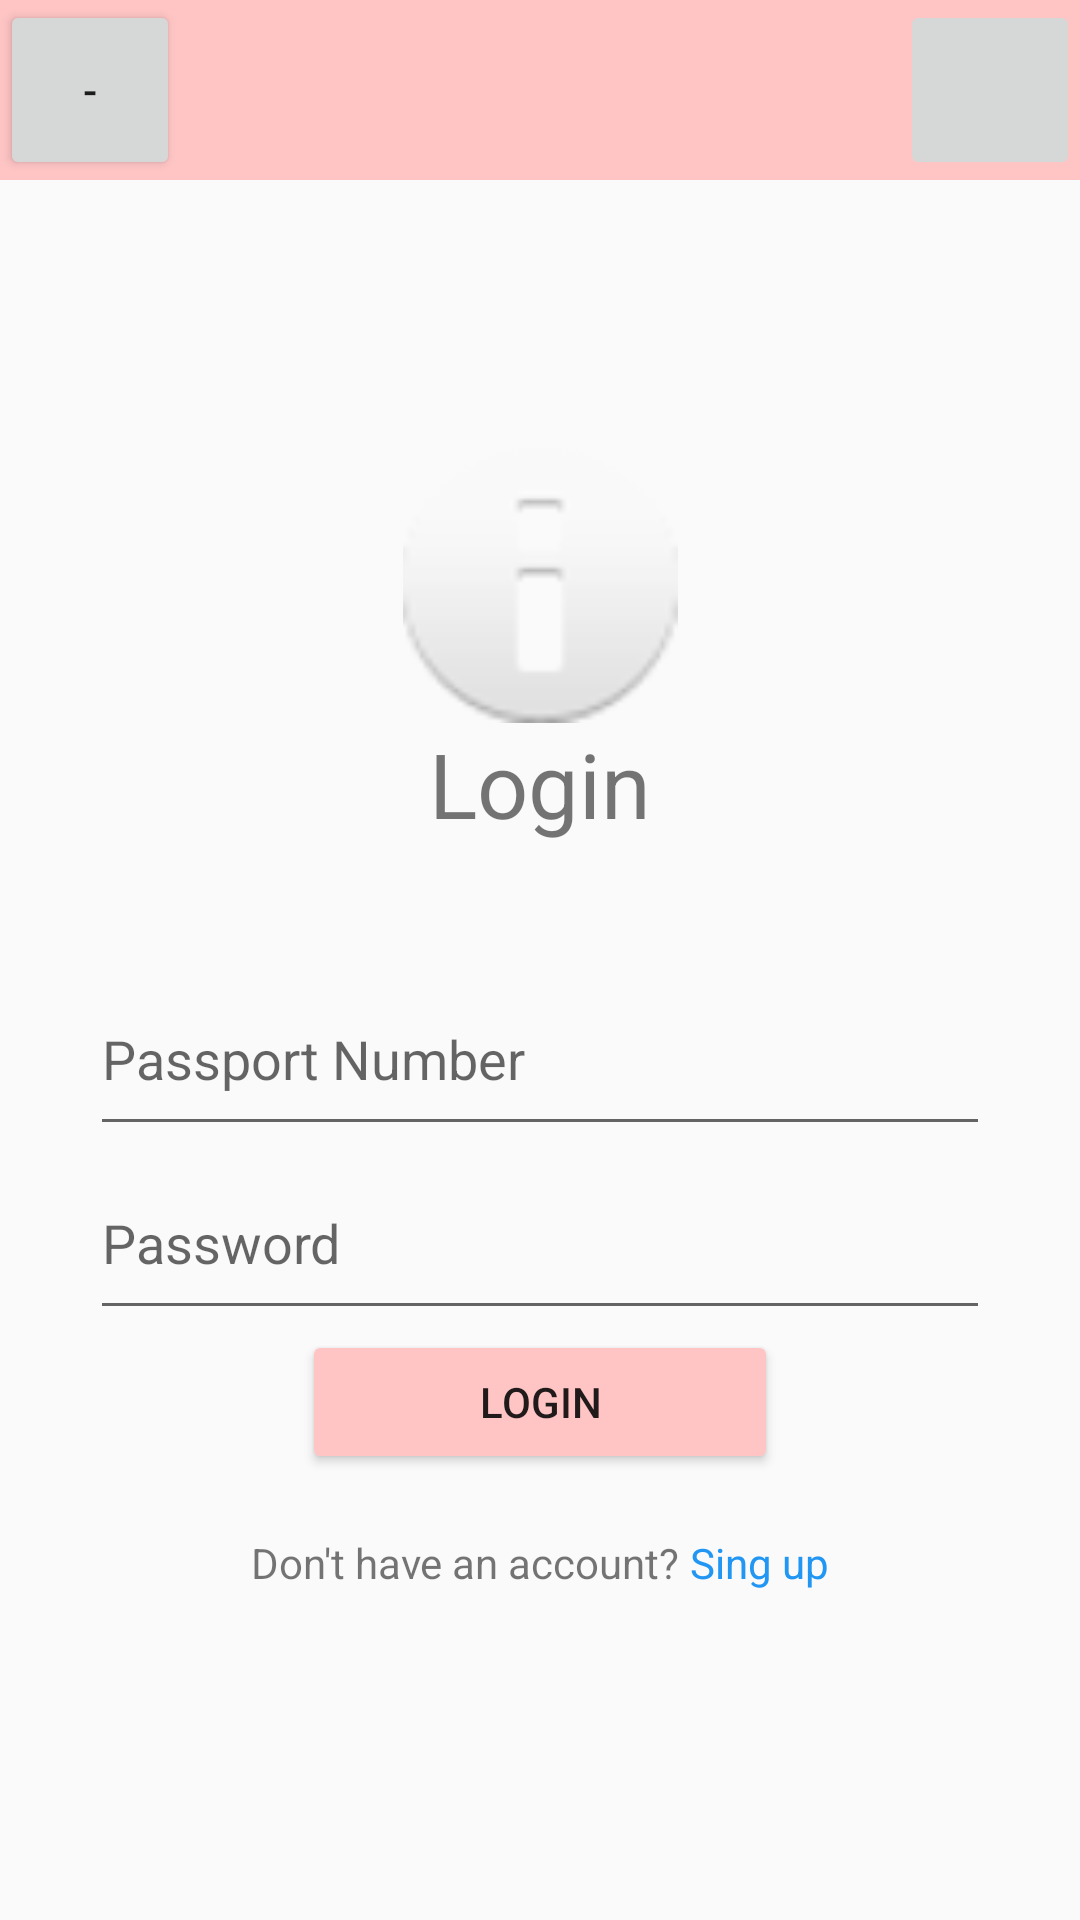

Named icons in this screenshot (1080px x 1920px) and their bounding boxes, (x1, y1, x2, y2):
info: (403, 499, 678, 723)
